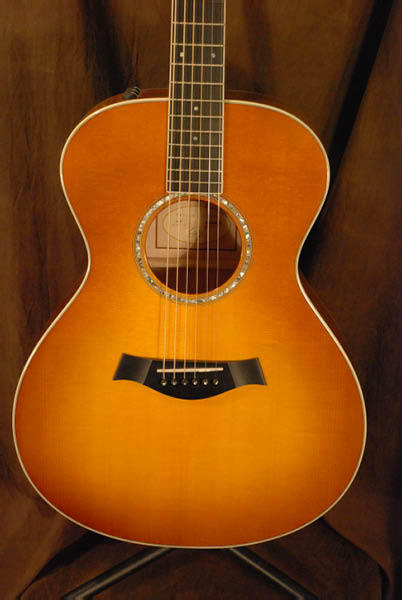guitar: (13, 5, 369, 551)
